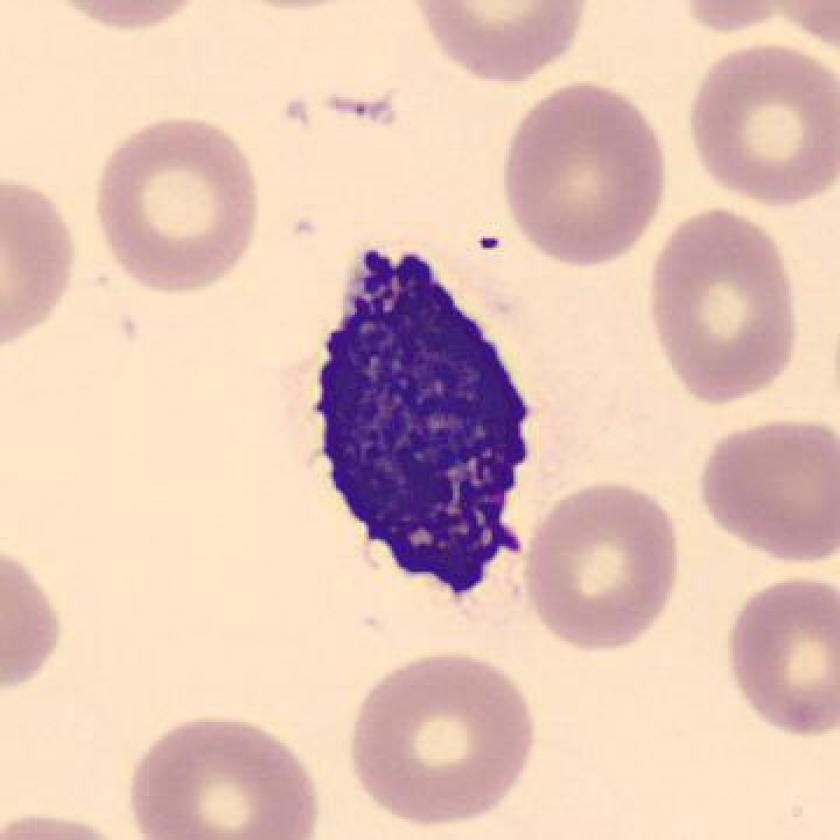basophil: (305, 230, 550, 593)
